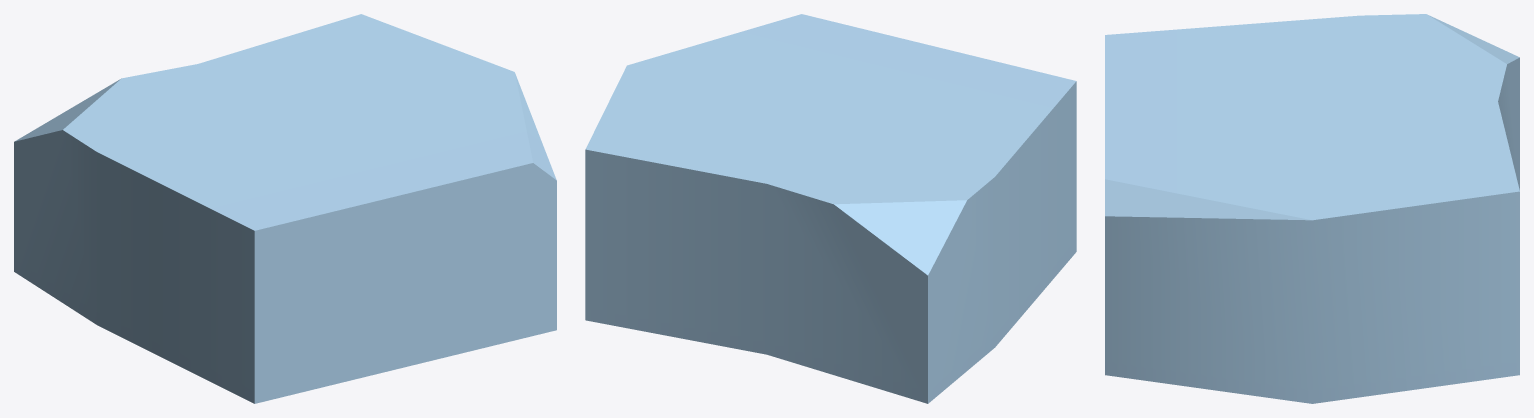
File: Rock 27.FBX
3 views of the same model, side by side, from view 1: azimuth 30°, elevation 25°; view 2: azimuth 150°, elevation 25°; view 3: azimuth 270°, elevation 25° (orthographic). The views are drawn at different scales.
Parts seen in each view (by area): view 1: Box001; view 2: Box001; view 3: Box001.
Part boxes in pixels (<box>): Box001: <box>14,14,556,403</box>; Box001: <box>585,14,1076,403</box>; Box001: <box>1105,14,1519,403</box>.
Size of the model in its own units: 26.21 by 10.76 by 22.03.
